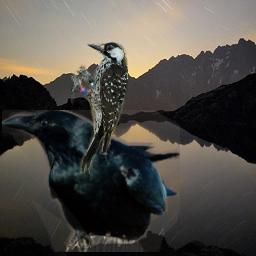Crow: (2, 110, 180, 252)
Woodpecker: (71, 42, 128, 174)
